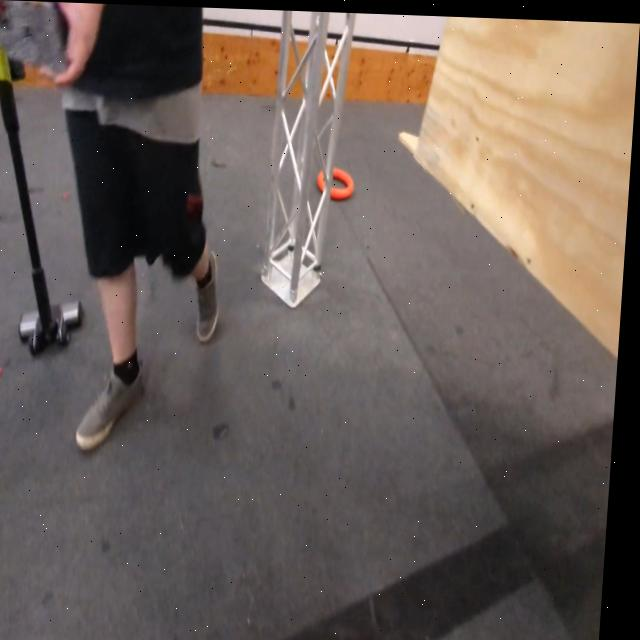note: (318, 165, 358, 200)
